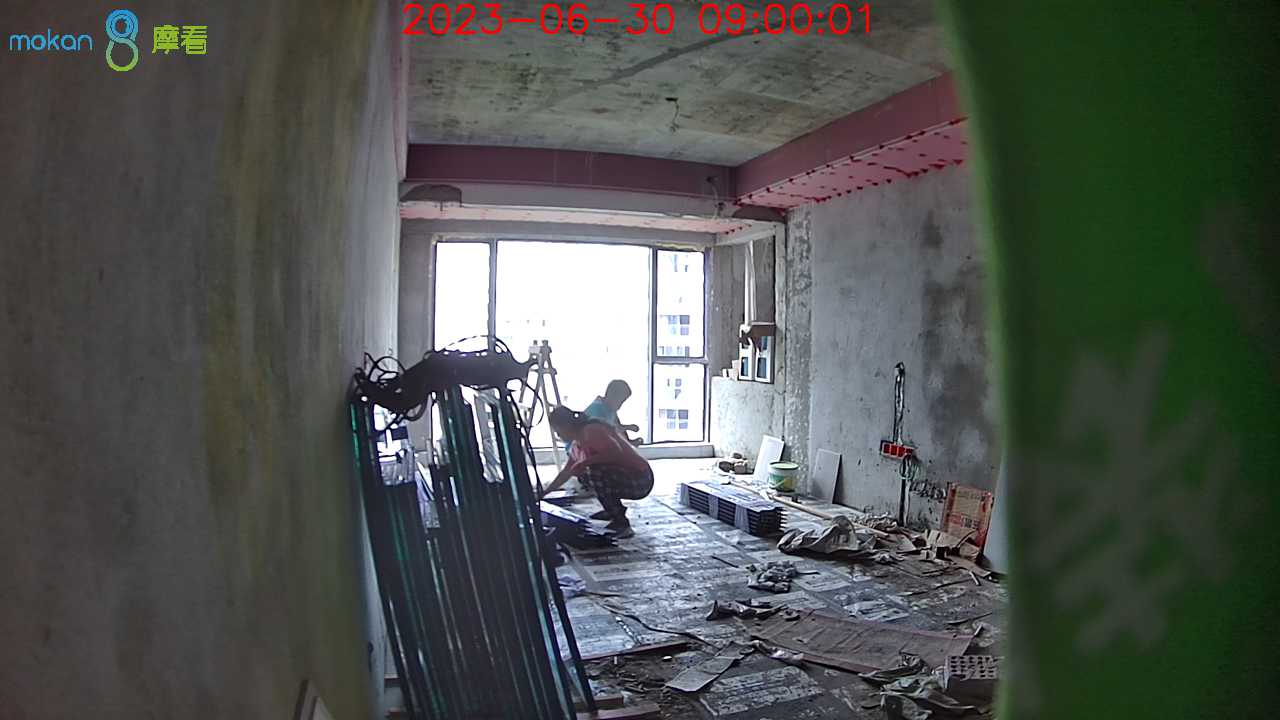people: (547, 406, 652, 531), (576, 375, 641, 431)
window: (434, 240, 711, 450)
